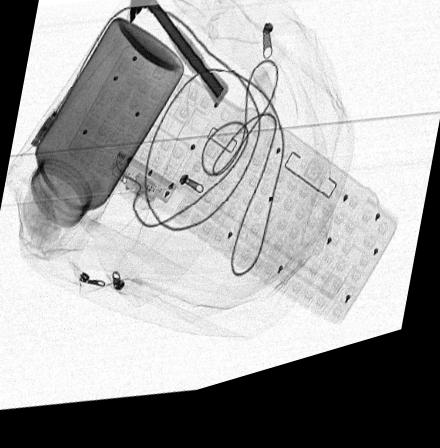Hammer: (128, 0, 227, 118)
